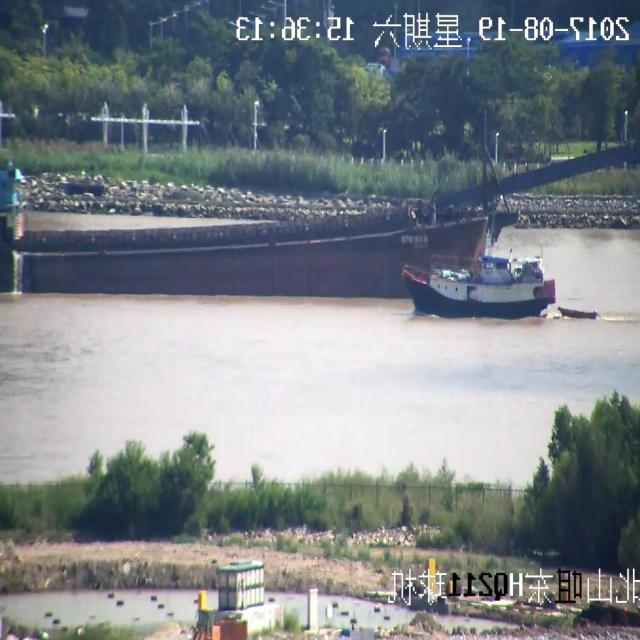cargoship: (16, 89, 635, 314), (388, 210, 560, 333)
